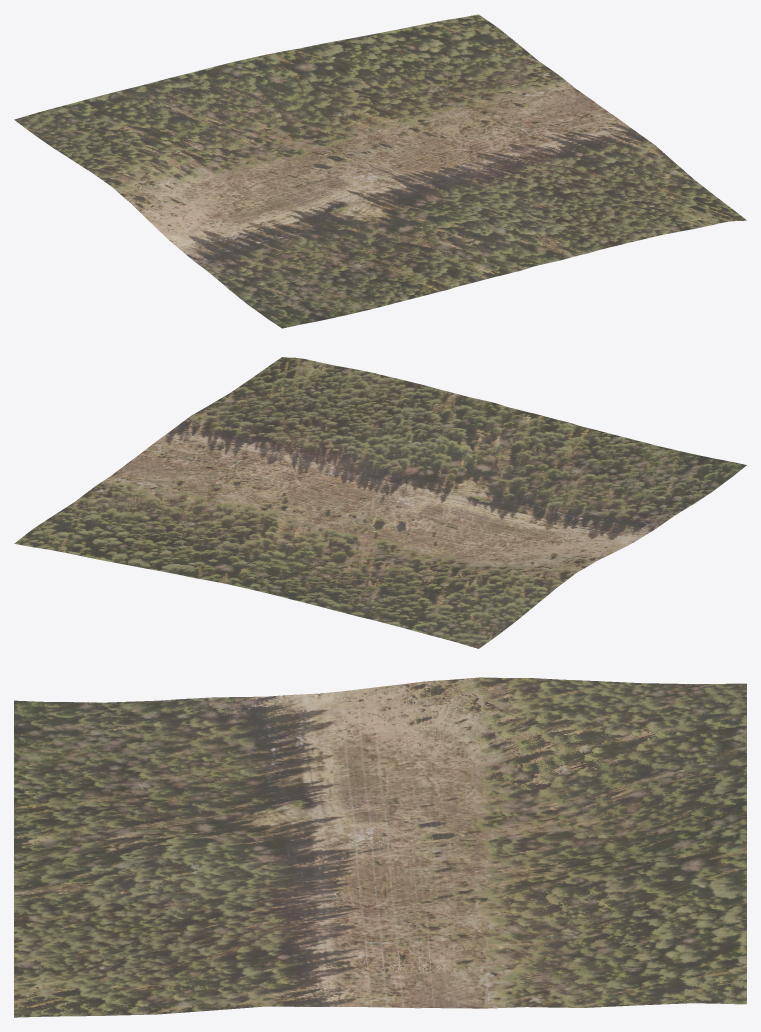
The model's file is CM_Terrain_24493530_6816517.fbx.
3 views of the same model, one above another, from view 1: azimuth 30°, elevation 25°; view 2: azimuth 150°, elevation 25°; view 3: azimuth 270°, elevation 25° (orthographic). The views are drawn at different scales.
Visible parts, largest first — view 1: CM_Terrain_24493530_6816517_LOD0; view 2: CM_Terrain_24493530_6816517_LOD0; view 3: CM_Terrain_24493530_6816517_LOD0.
Part boxes in pixels (x1,y1,x2,y2): CM_Terrain_24493530_6816517_LOD0: (14, 14, 746, 328); CM_Terrain_24493530_6816517_LOD0: (14, 357, 746, 648); CM_Terrain_24493530_6816517_LOD0: (14, 677, 746, 1017).
Size of what is drawn, in the model's own units: 205 by 9.38 by 205.
